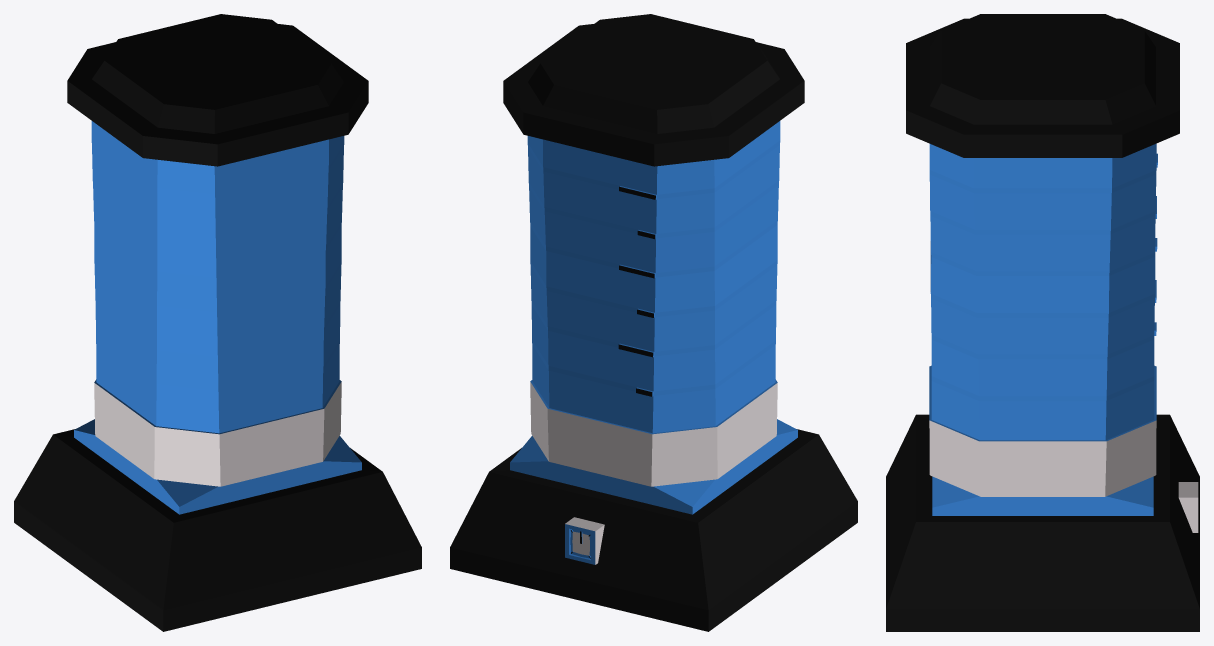
File: Blender 2.fbx
3 renders of one model, left to right at view 1: azimuth 30°, elevation 25°; view 2: azimuth 150°, elevation 25°; view 3: azimuth 270°, elevation 25°, orthographic. The views are drawn at different scales.
Visible parts, largest first — view 1: Node 0; view 2: Node 0; view 3: Node 0.
Part boxes in pixels (<box>): Node 0: <box>14,14,421,631</box>; Node 0: <box>450,14,857,631</box>; Node 0: <box>886,14,1199,631</box>.
Size of the model in its own units: 0.2457 by 0.4393 by 0.2457.
